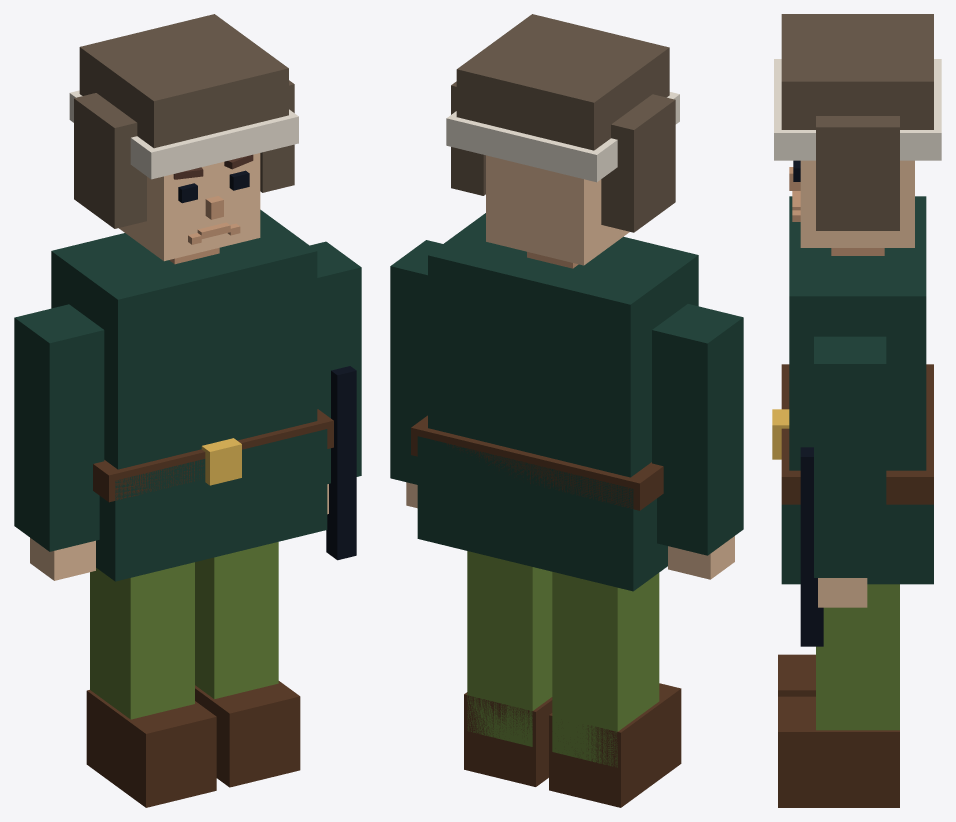
Rendered from npc_grisha.glb.
The picture shows the model from 3 angles, left to right: view 1: azimuth 30°, elevation 25°; view 2: azimuth 150°, elevation 25°; view 3: azimuth 270°, elevation 25°; orthographic projection. The views are drawn at different scales.
Parts seen in each view (by area): view 1: npc_grisha; view 2: npc_grisha; view 3: npc_grisha.
Part boxes in pixels (x1,y1,x2,y2): npc_grisha: [14, 14, 361, 807]; npc_grisha: [390, 14, 743, 807]; npc_grisha: [772, 14, 941, 807].
Bounding box in the file's own units: 0.9701 × 2.09 × 0.445.
Materials: 1 (1 with a texture image).
